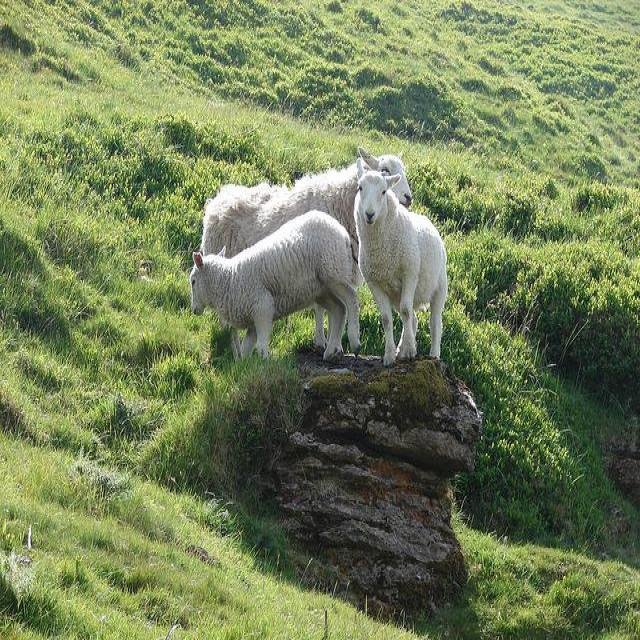Sheep: (191, 210, 365, 362), (199, 146, 413, 266), (351, 173, 452, 364)
